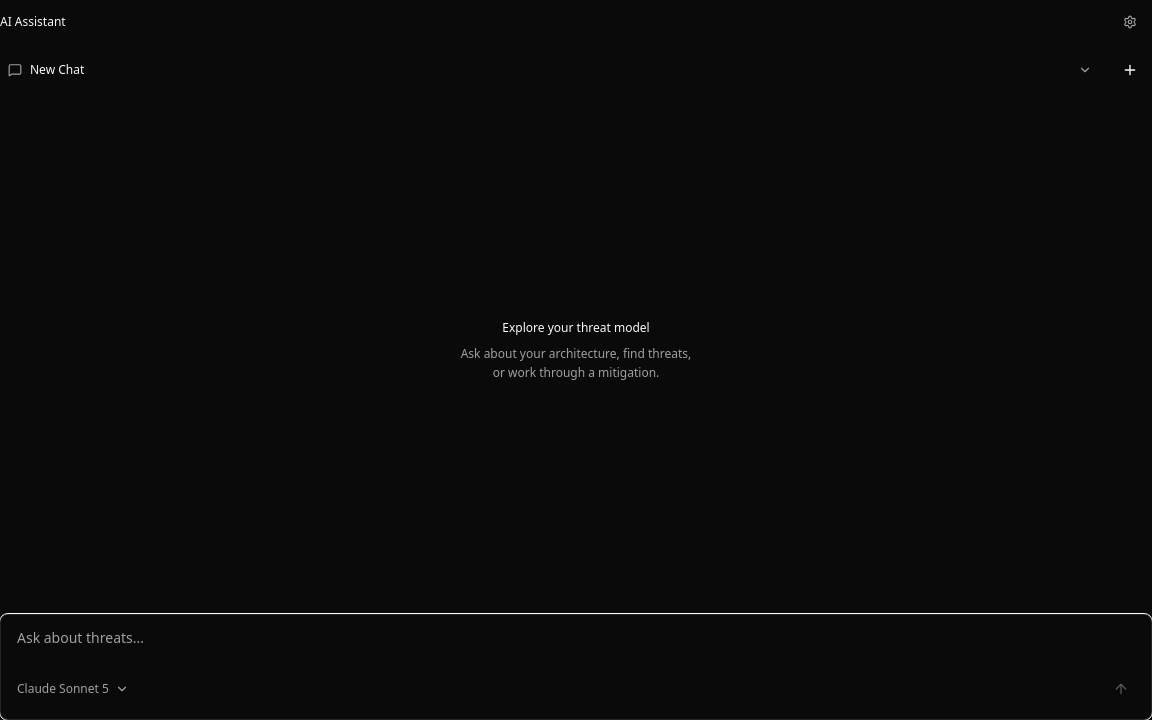
Scenario: chat picker accessibility › opens a single chat, supports Escape dismissal, and returns focus
The image size is (1152, 720).
Click the button with aria-label "Choose chat" at (57,70), box x1=0 y1=48 x2=1100 y2=92
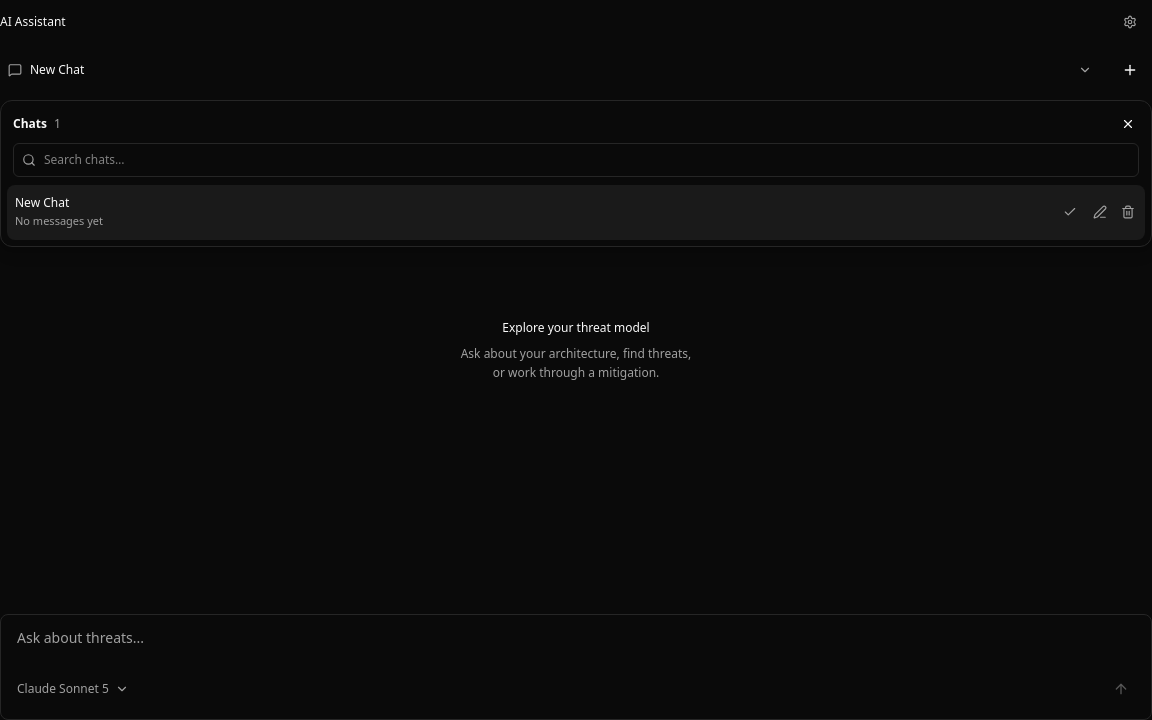
Expected: the dialog "Chats" is shown, x1=0 y1=100 x2=1151 y2=246
Expected: the button with aria-label "Open chat: New Chat" is shown, x1=7 y1=185 x2=1085 y2=240
Press Escape in the field labelled "Search chats", box x1=44 y1=144 x2=1130 y2=176
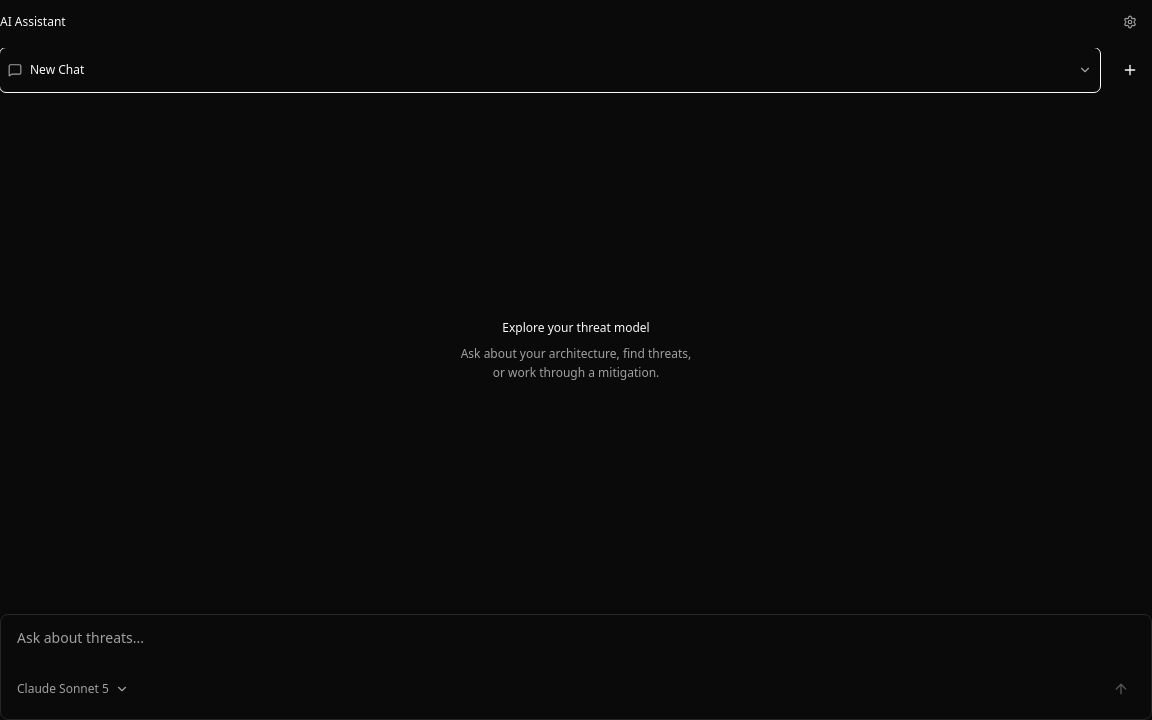
Expected: the dialog "Chats" is gone
